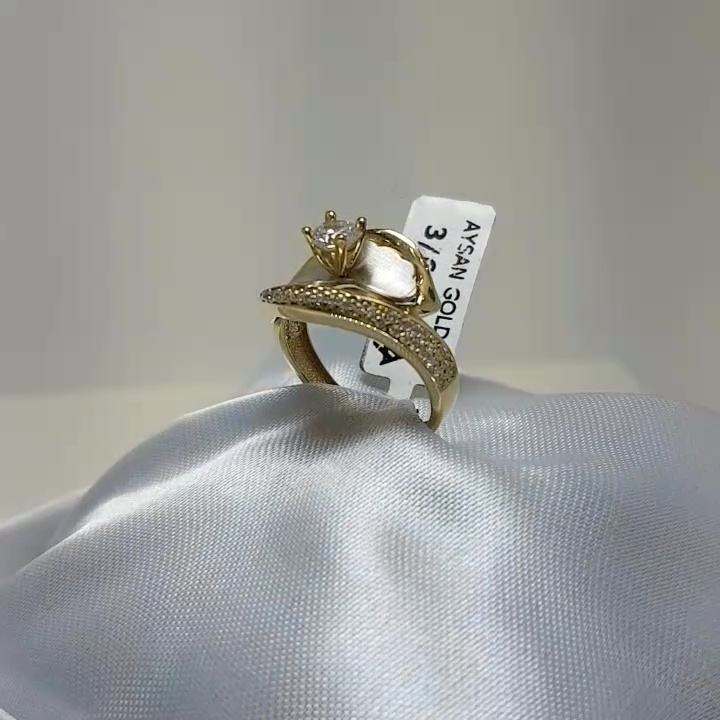Ring 6: (243, 191, 467, 440)
